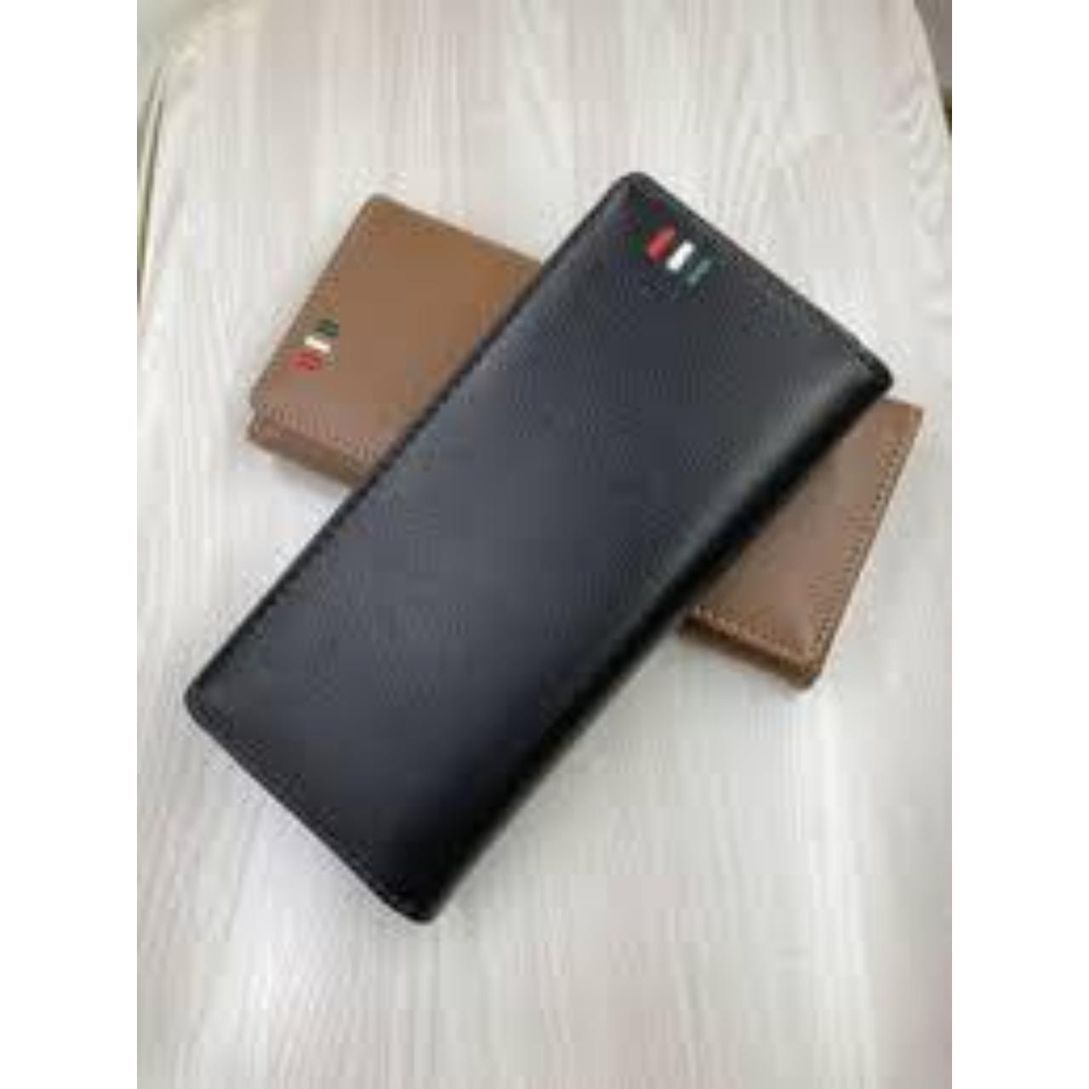wallet: (184, 141, 927, 982)
